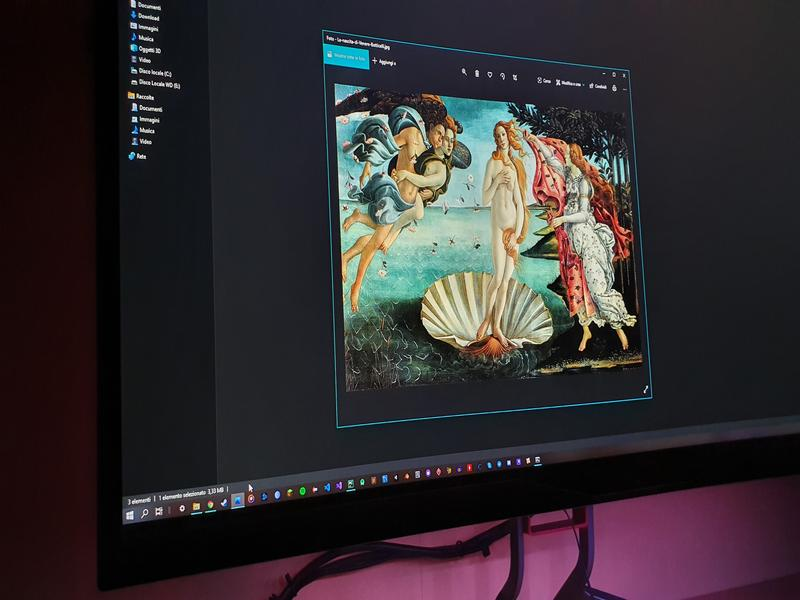Venere: (334, 86, 651, 390)
